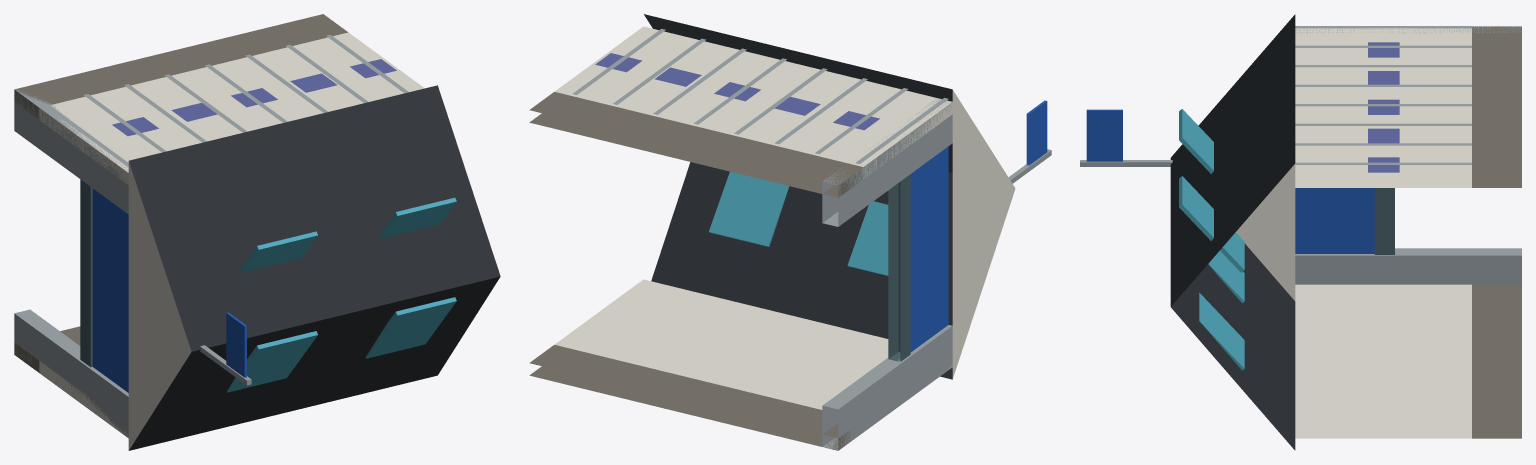
The model's file is north.glb.
3 renders of one model, left to right at view 1: azimuth 30°, elevation 25°; view 2: azimuth 150°, elevation 25°; view 3: azimuth 270°, elevation 25°, orthographic.
Visible parts, largest first — view 1: depot_ship_north; view 2: depot_ship_north; view 3: depot_ship_north.
Boxes of the visible parts, x1,y1,x2,y2 form: depot_ship_north: (14, 14, 500, 450); depot_ship_north: (529, 14, 1051, 450); depot_ship_north: (1080, 14, 1521, 450).
Size of the model in its own units: 15.6 by 14 by 19.5.
